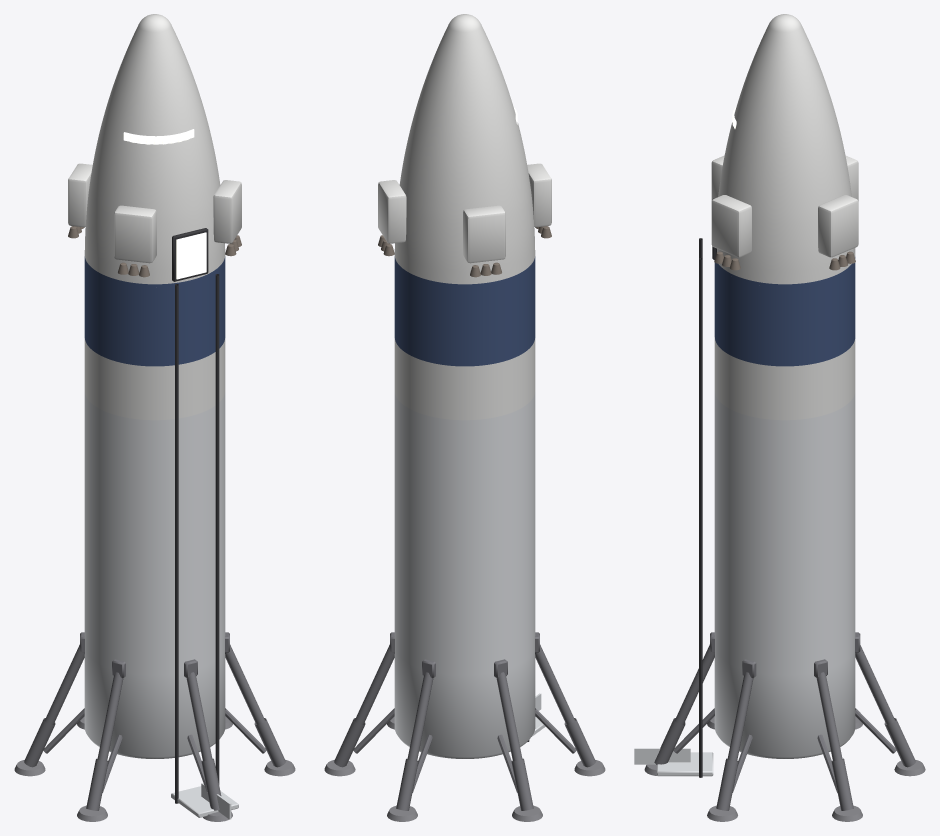
The model's file is hls.glb.
3 views of the same model, side by side, from view 1: azimuth 30°, elevation 25°; view 2: azimuth 150°, elevation 25°; view 3: azimuth 270°, elevation 25° (orthographic).
Visible parts, largest first — view 1: hls; view 2: hls; view 3: hls.
Part boxes in pixels (box(x1,y1,x2,y2)): hls: box(14, 14, 295, 821); hls: box(324, 14, 605, 821); hls: box(634, 14, 925, 821).
Bounding box in the file's own units: 15.86 × 53.26 × 18.65.
